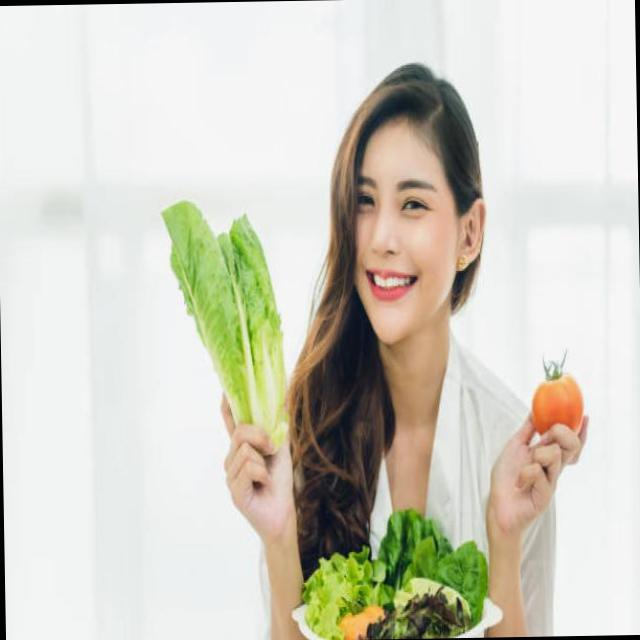Lettuce-Ready-to-Harvest: (162, 201, 287, 445)
